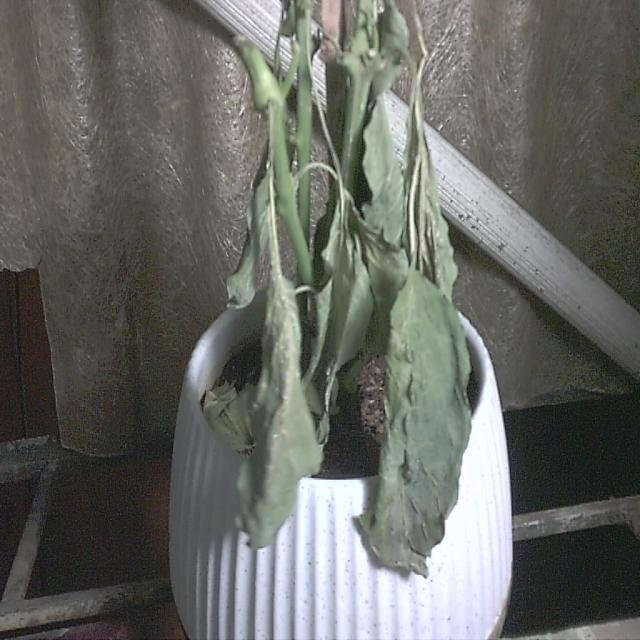Leaf: (353, 274, 473, 580)
